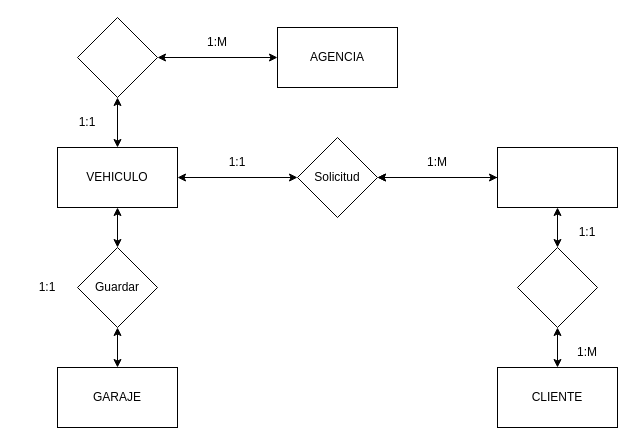
The diagram is 635 pixels wide and 445 high, and some of its shapes have lost their labels. Each missing label, with the box of its shape:
Pertenece: (76, 16, 158, 98)
RESERVA: (496, 146, 618, 208)
Tiene: (516, 246, 598, 328)
